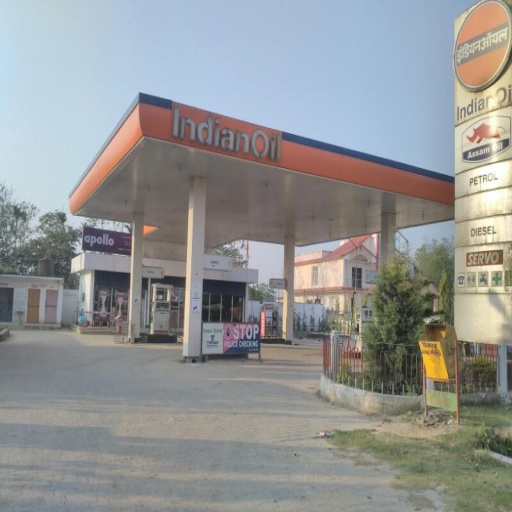roof: (67, 91, 456, 255)
